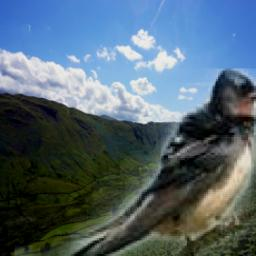Swallow: (14, 68, 256, 256)
